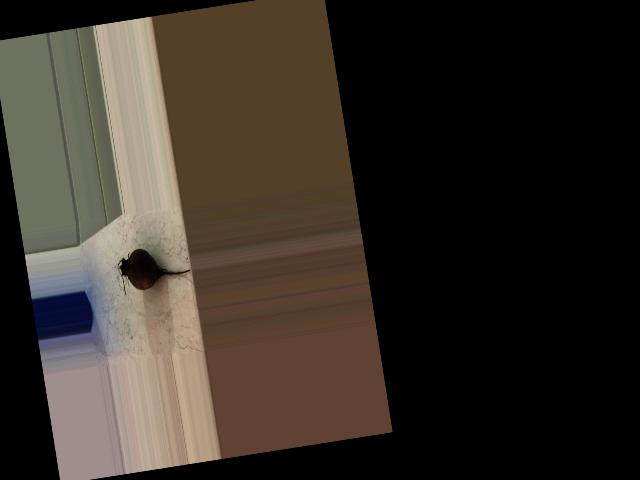beet: (115, 242, 193, 296)
